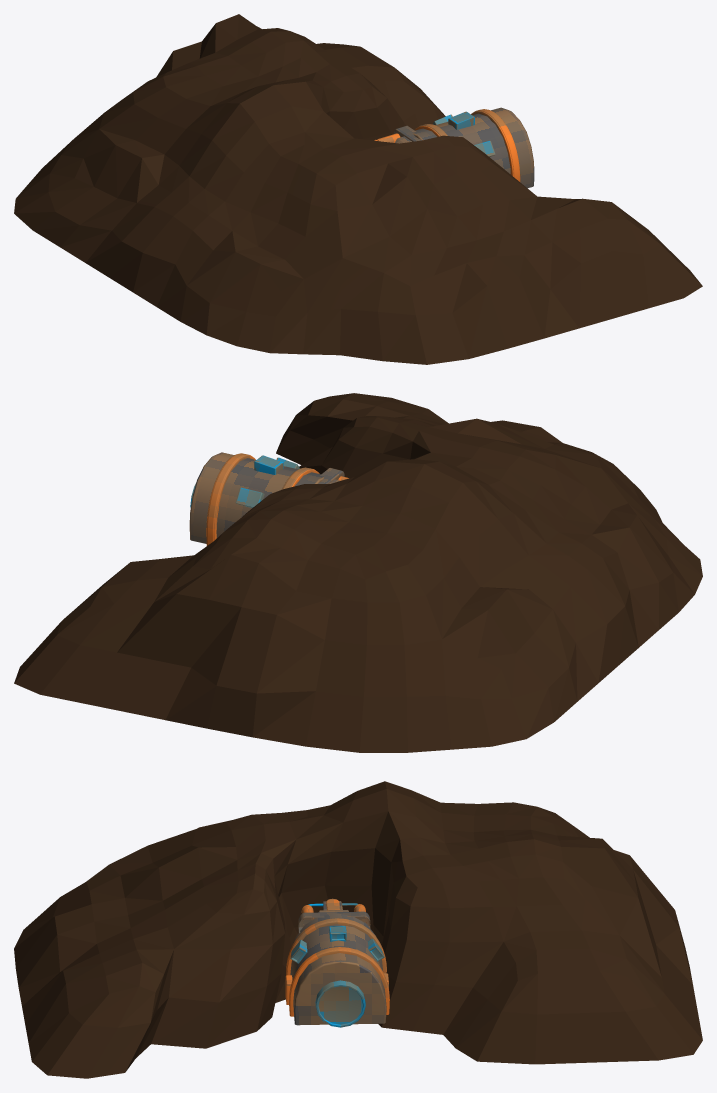
The model's file is mars_workforce_mining.glb.
3 renders of one model, top to bottom at view 1: azimuth 30°, elevation 25°; view 2: azimuth 150°, elevation 25°; view 3: azimuth 270°, elevation 25°, orthographic. The views are drawn at different scales.
Parts seen in each view (by area): view 1: Decontamination_section; view 2: Decontamination_section; view 3: Decontamination_section.
Part boxes in pixels (x1,y1,x2,y2): Decontamination_section: (14,14,702,364); Decontamination_section: (14,393,702,752); Decontamination_section: (14,781,702,1078).
Bounding box in the file's own units: 17.07 × 5.28 × 21.72.
4 materials, 3 textured.
